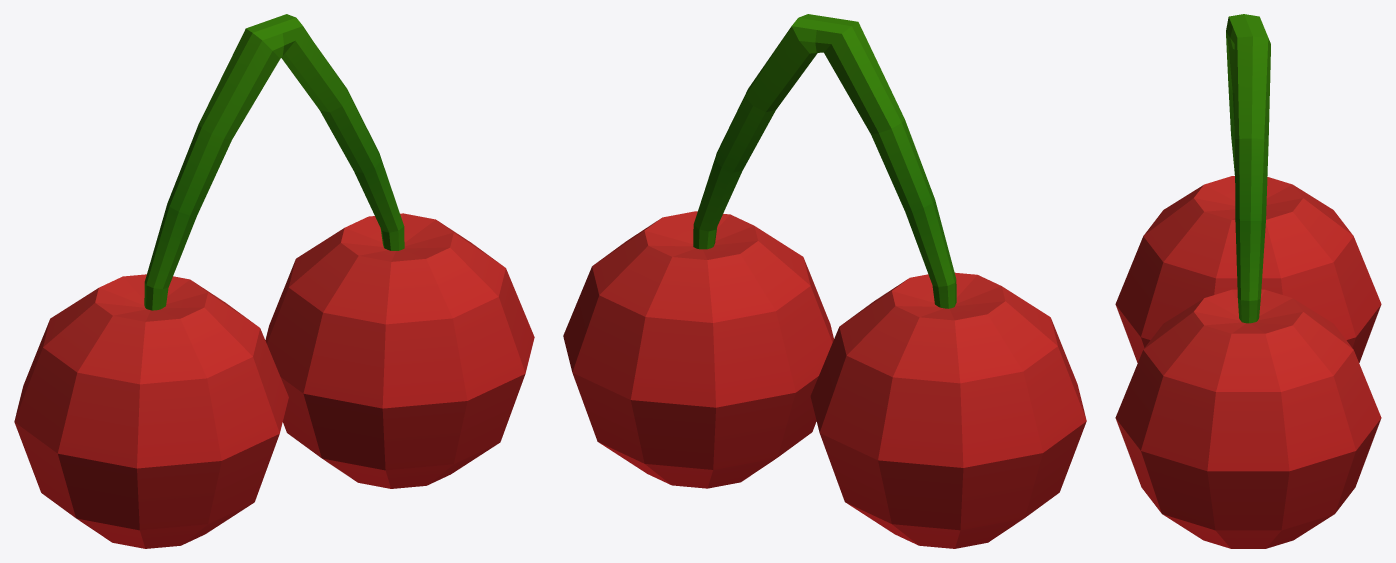
The model's file is cherry_2.fbx.
The picture shows the model from 3 angles, left to right: view 1: azimuth 30°, elevation 25°; view 2: azimuth 150°, elevation 25°; view 3: azimuth 270°, elevation 25°; orthographic projection. The views are drawn at different scales.
Visible parts, largest first — view 1: cherry_2; view 2: cherry_2; view 3: cherry_2.
Boxes of the visible parts, x1,y1,x2,y2 form: cherry_2: [14, 14, 534, 548]; cherry_2: [563, 14, 1086, 548]; cherry_2: [1115, 14, 1381, 548].
Size of the model in its own units: 0.0729 by 0.0685 by 0.0372.
